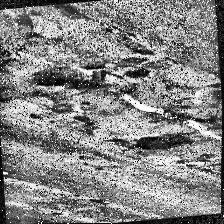pothole: (28, 59, 120, 101), (132, 129, 194, 155)
